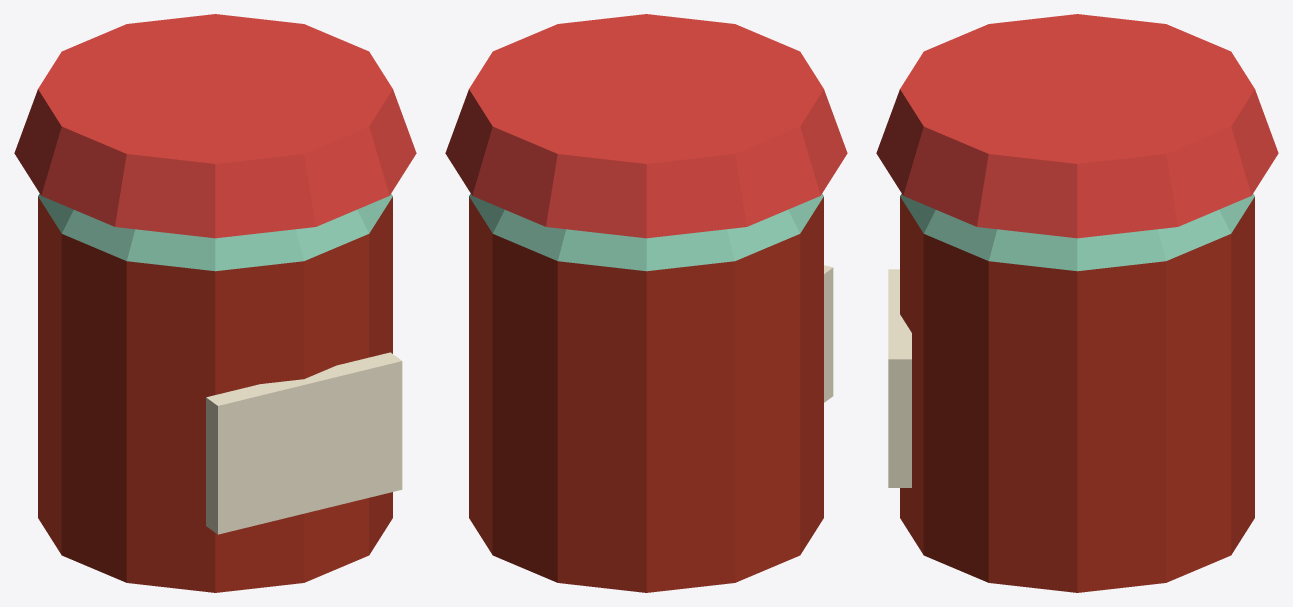
Rendered from jam_apple.obj.
3 renders of one model, left to right at view 1: azimuth 30°, elevation 25°; view 2: azimuth 150°, elevation 25°; view 3: azimuth 270°, elevation 25°, orthographic.
Visible parts, largest first — view 1: item; view 2: item; view 3: item.
Part boxes in pixels (x1,y1,x2,y2): item: (14, 14, 416, 592); item: (445, 14, 847, 592); item: (876, 14, 1278, 592).
Bounding box in the file's own units: 0.34 × 0.4 × 0.34.
